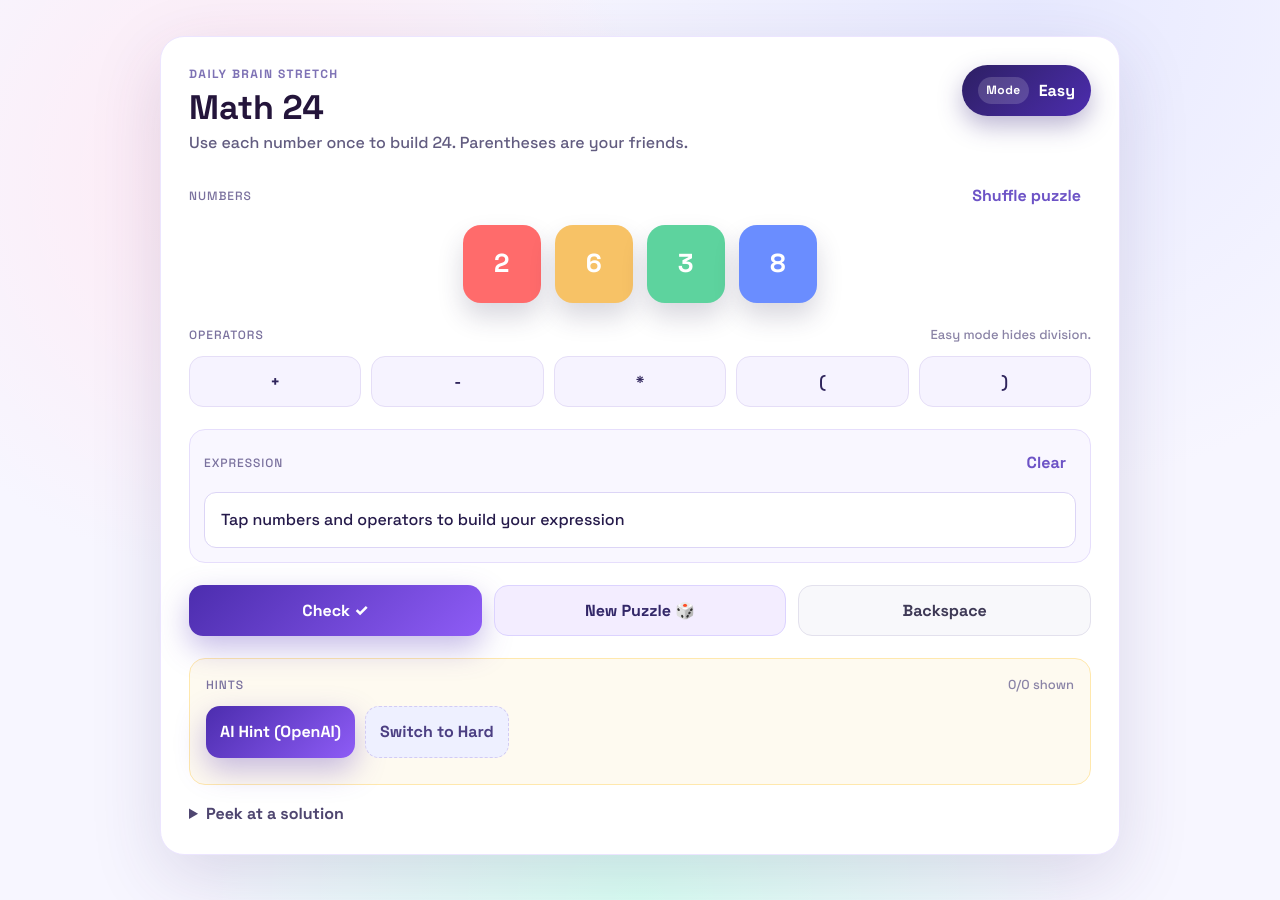
Math24Game › Number Input › displays clicked numbers in the expression
Click the button "2": (502, 264) [463,225,541,303]
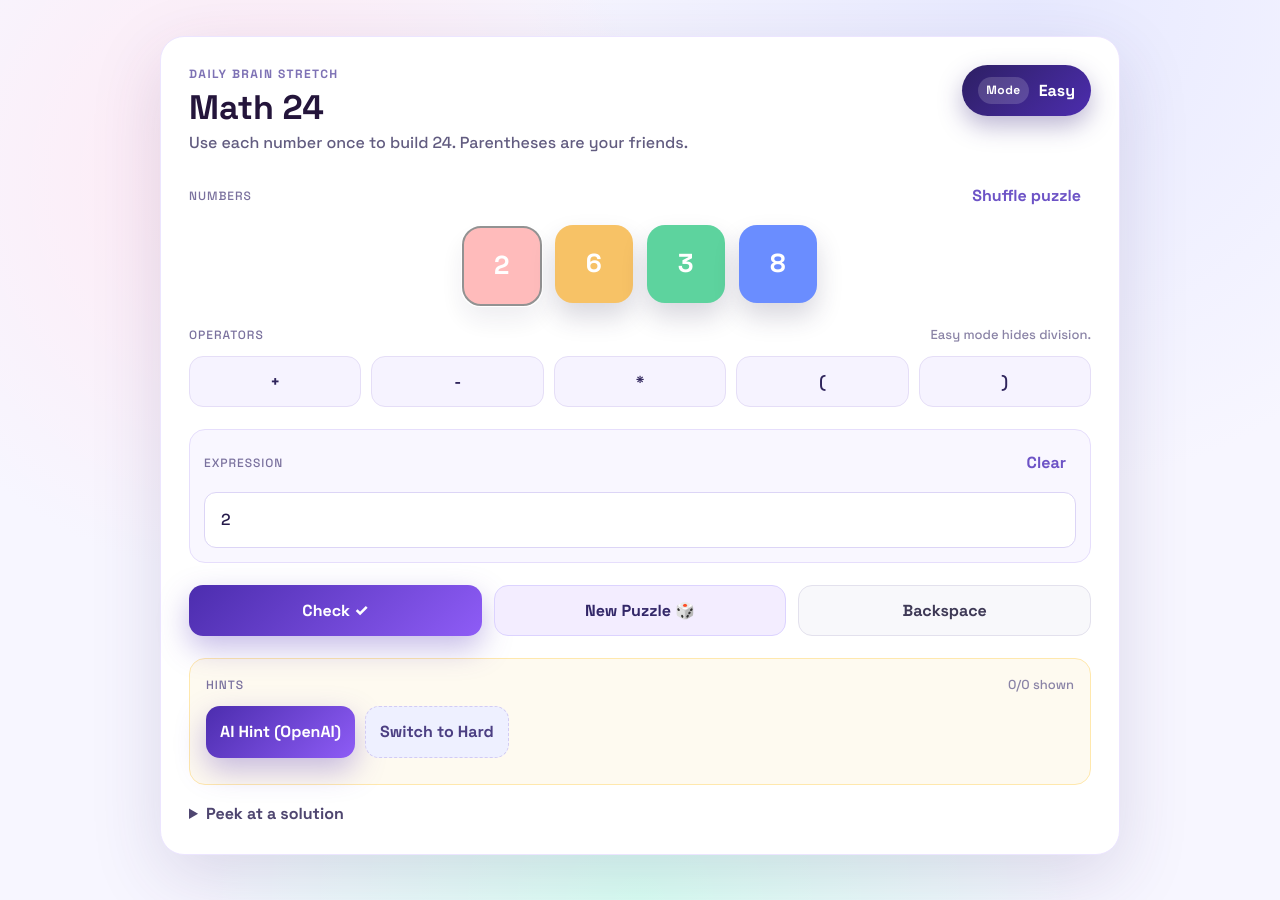
Result: the text with class "expression" reads "2" at [221,509,231,530]
